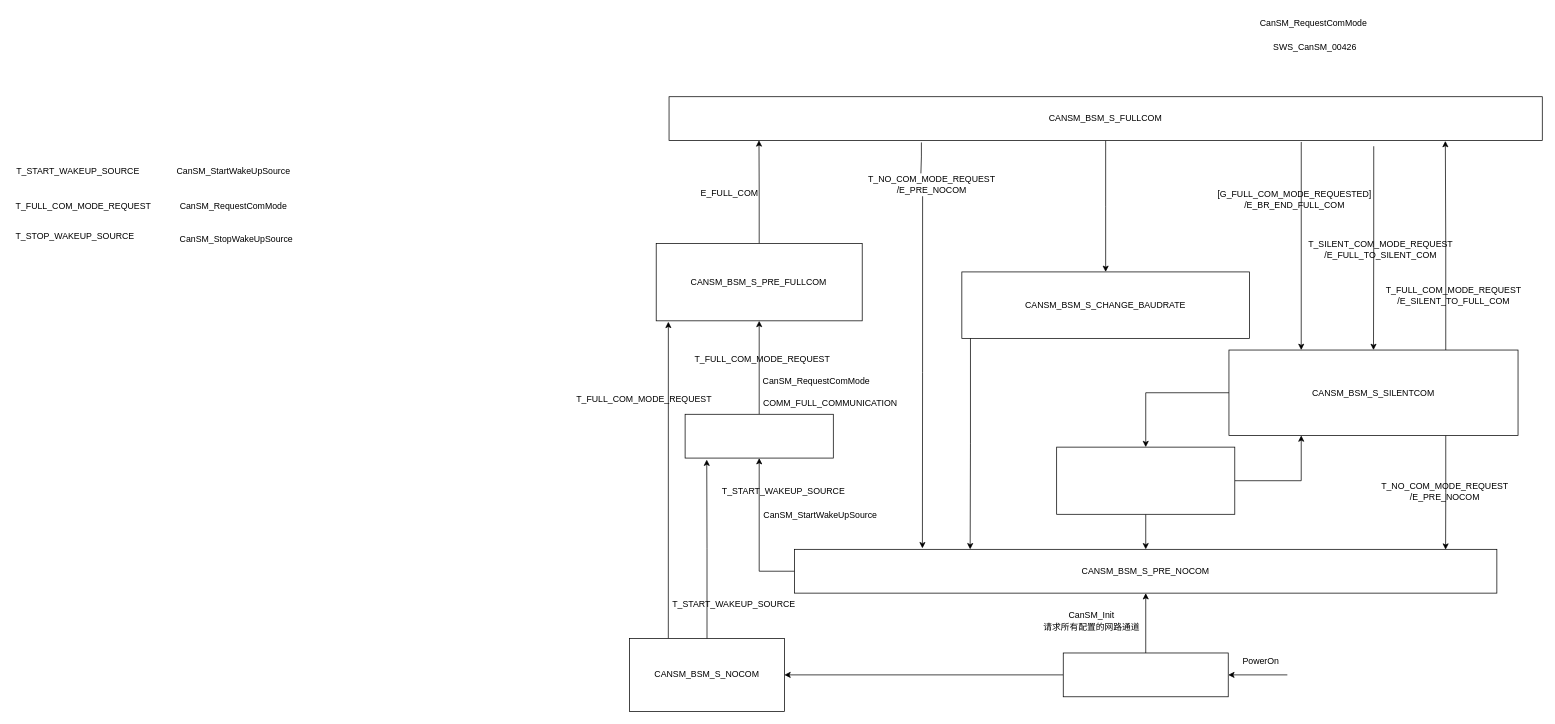
This 1555x724 diagram has some shape labels left out. The shapes that lost their labels are listed below. From the top down, each one's centre as x and y in pixels, then its label:
point 758,436: CANSM_BSM_WUVALIDATION
point 1145,480: CANSM_BSM_S_SILENTCOM_BOR
point 1145,674: CANSM_BSM_S_NOT_INITIALIZED
